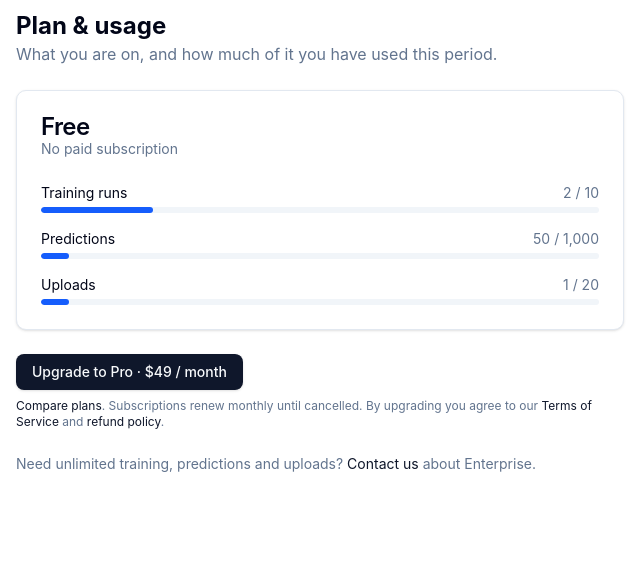
Test: Plan & usage › reports a checkout failure rather than leaving the button spinning
The width and height of the screenshot is (641, 567).
Click the button "Upgrade to Pro · $49 / month" at {"x": 129, "y": 372}, box [16,354,243,390]
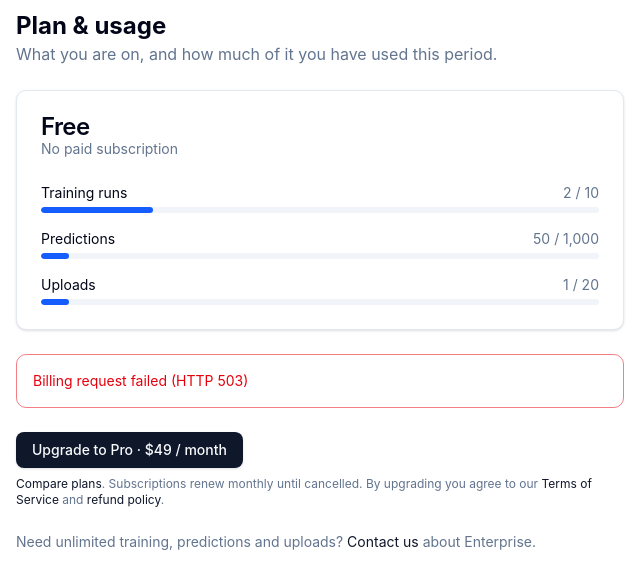
Expected: the button "Upgrade to Pro · $49 / month" is enabled, [16,432,243,468]
Now the text "Billing request failed (HTTP 503)" is shown, box [33,372,248,389]
